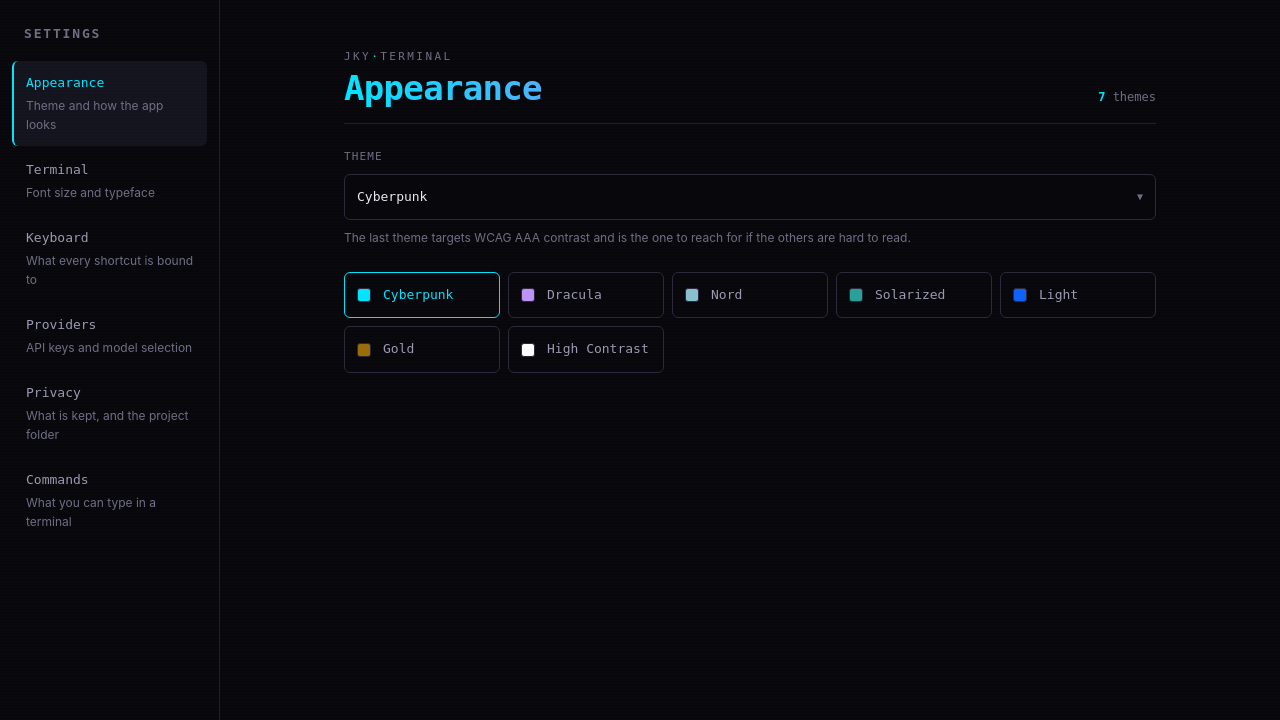
the Privacy panel › clears every command only after a second, explicit click
Click the button "Privacy What is kept, and the project folder". click: (110, 414)
box: [12, 371, 207, 456]
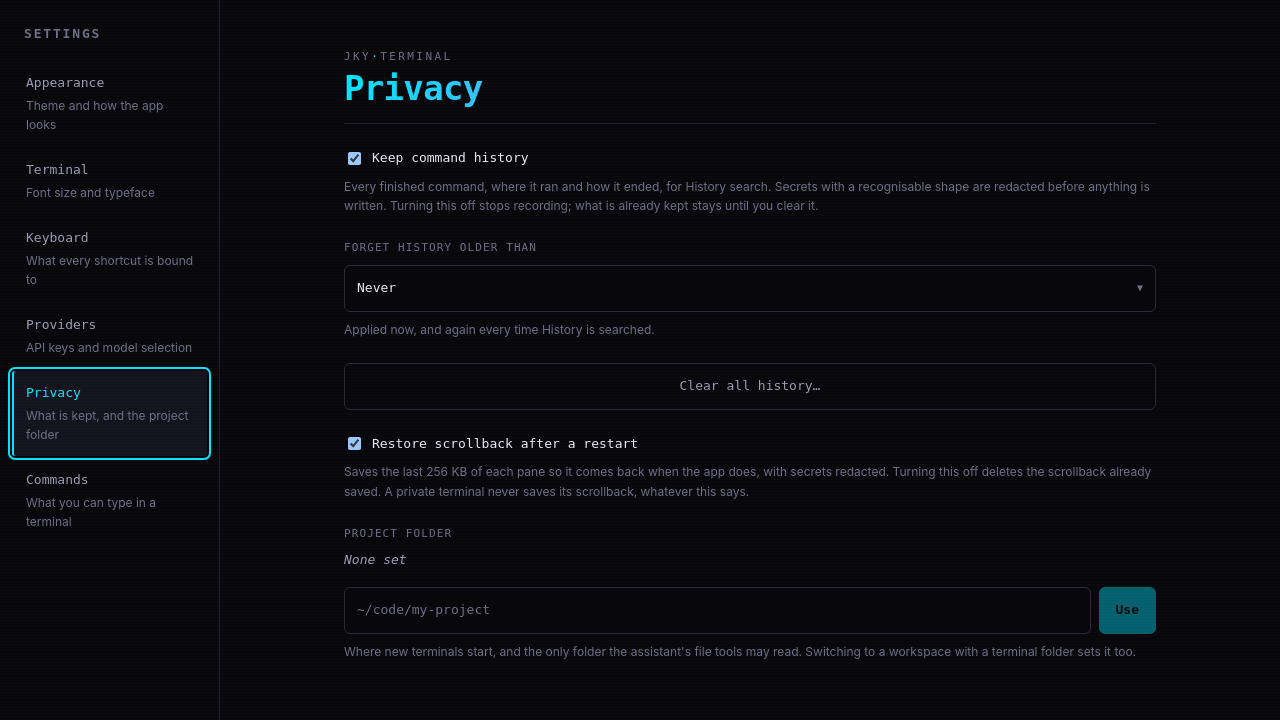
expect the heading "Privacy" is shown: met, box [344, 70, 1140, 107]
Click the button "Clear all history…". click: (750, 386)
box: [344, 363, 1156, 410]
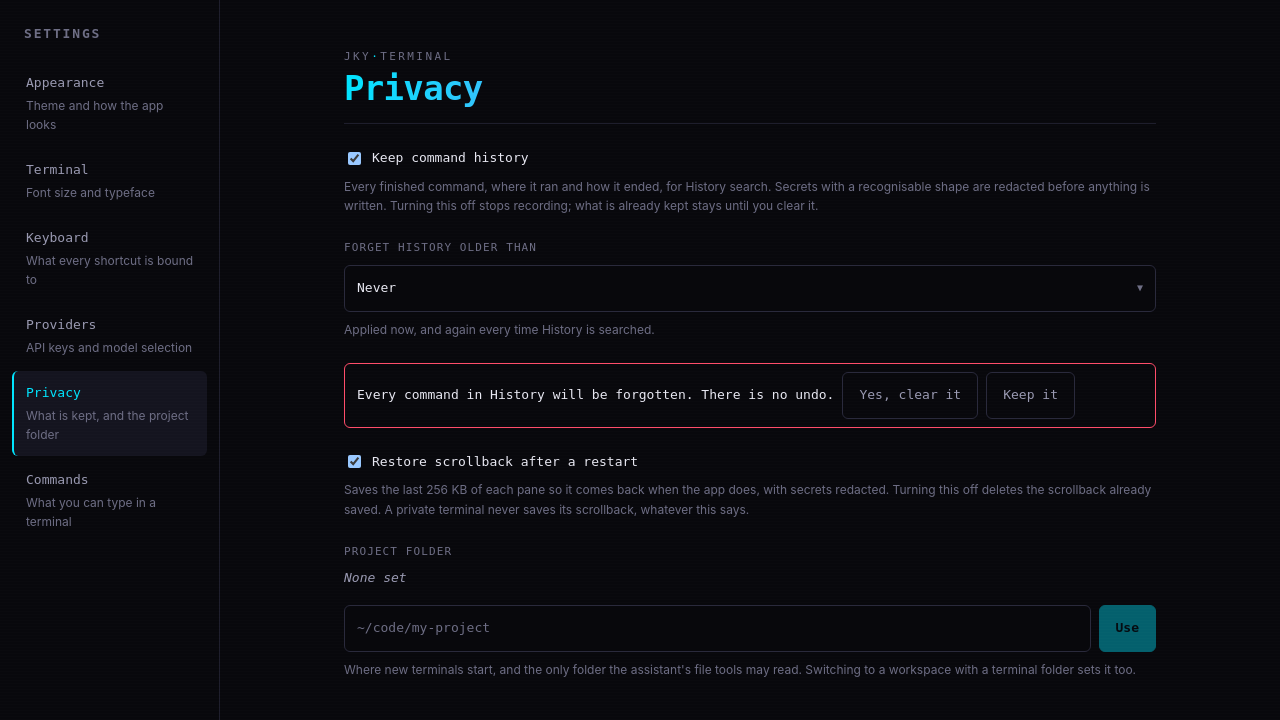
Click the button "Yes, clear it". click: (910, 395)
box: [842, 372, 978, 418]
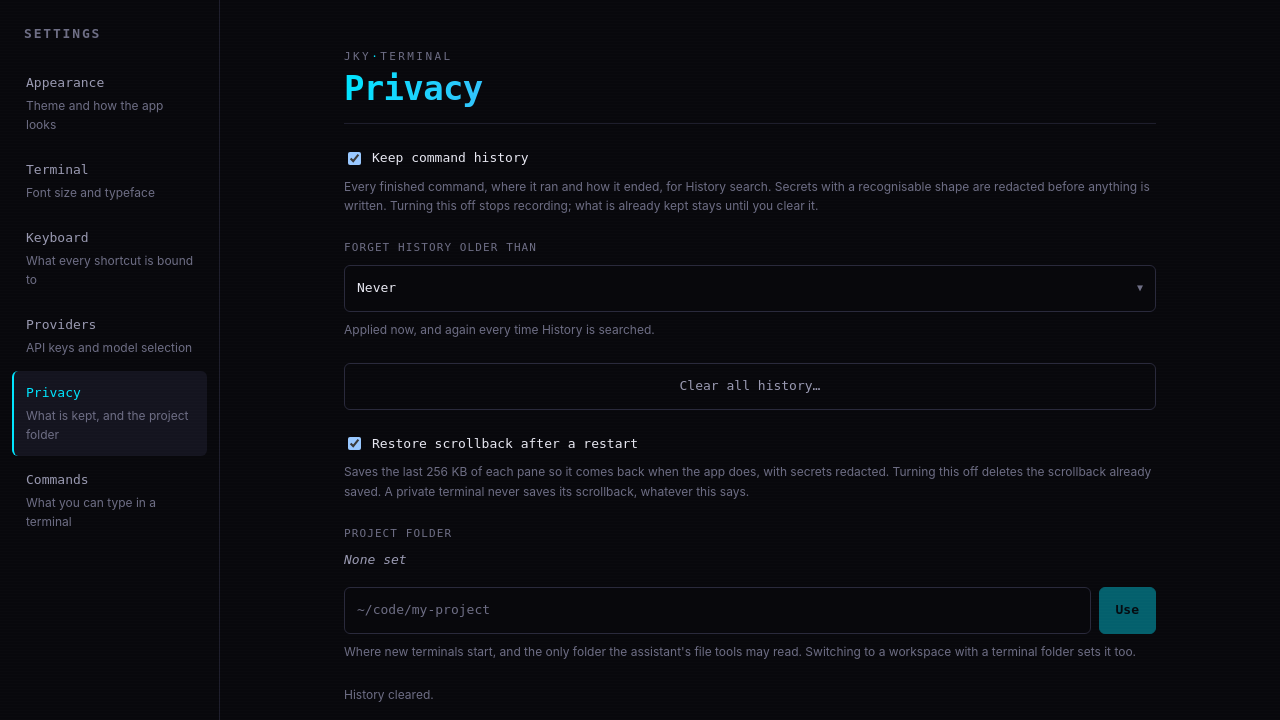
expect the message shows "History cleared": met, box [344, 687, 434, 702]
